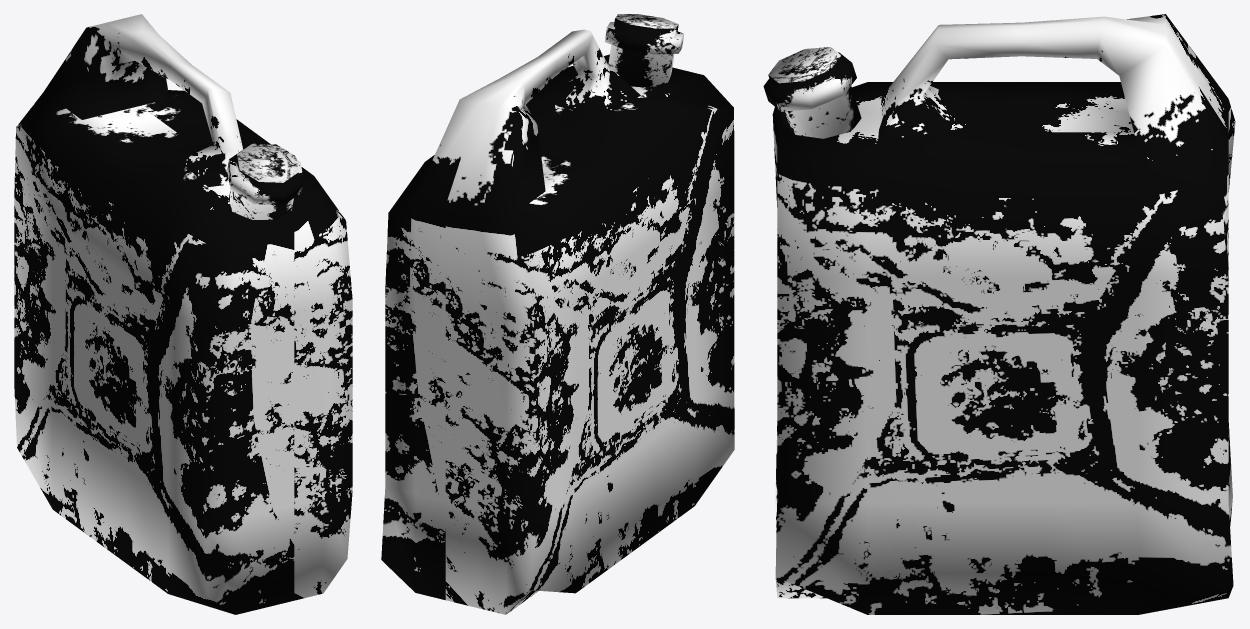
The model's file is Kanister.fbx.
3 views of the same model, side by side, from view 1: azimuth 30°, elevation 25°; view 2: azimuth 150°, elevation 25°; view 3: azimuth 270°, elevation 25° (orthographic). The views are drawn at different scales.
Visible parts, largest first — view 1: Cube, Cylinder; view 2: Cube, Cylinder; view 3: Cube, Cylinder.
Part boxes in pixels (<box>): Cube: <box>14,14,352,614</box>; Cylinder: <box>227,143,303,219</box>; Cube: <box>381,29,734,614</box>; Cylinder: <box>605,14,683,87</box>; Cube: <box>772,14,1235,614</box>; Cylinder: <box>763,47,861,138</box>.
Size of the model in its own units: 20.4 by 61.59 by 47.63.
Materials: 1 (1 with a texture image).
